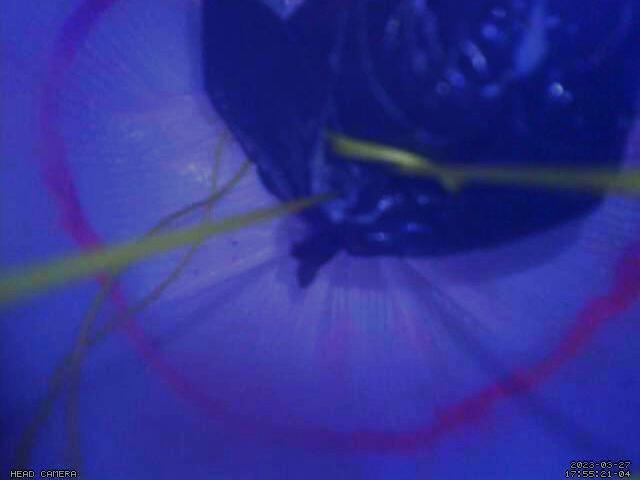head: (35, 0, 640, 455)
